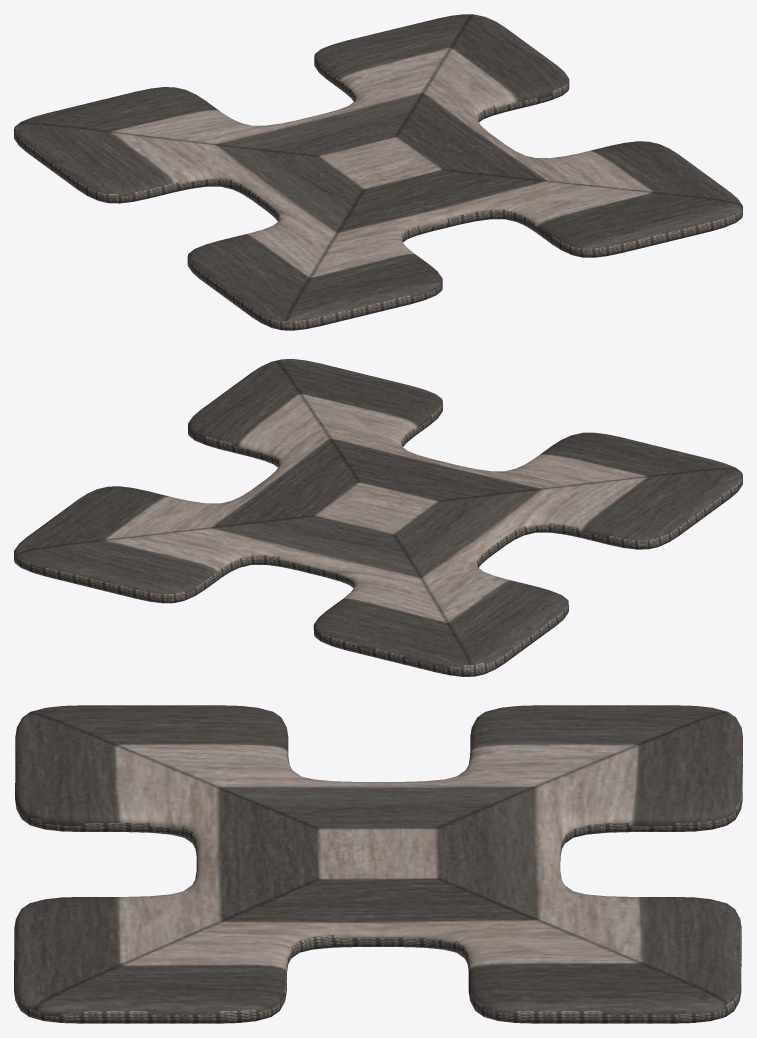
3 views of the same model, one above another, from view 1: azimuth 30°, elevation 25°; view 2: azimuth 150°, elevation 25°; view 3: azimuth 270°, elevation 25° (orthographic). The views are drawn at different scales.
Parts seen in each view (by area): view 1: Puzzle.013_Puzzle.013_GoldenEggMaterial; view 2: Puzzle.013_Puzzle.013_GoldenEggMaterial; view 3: Puzzle.013_Puzzle.013_GoldenEggMaterial.
Part boxes in pixels (bbox=[...]): Puzzle.013_Puzzle.013_GoldenEggMaterial: bbox=[14, 14, 742, 330]; Puzzle.013_Puzzle.013_GoldenEggMaterial: bbox=[14, 359, 742, 676]; Puzzle.013_Puzzle.013_GoldenEggMaterial: bbox=[14, 705, 742, 1023].
Bounding box in the file's own units: 0.25 × 0.00924 × 0.2514.
